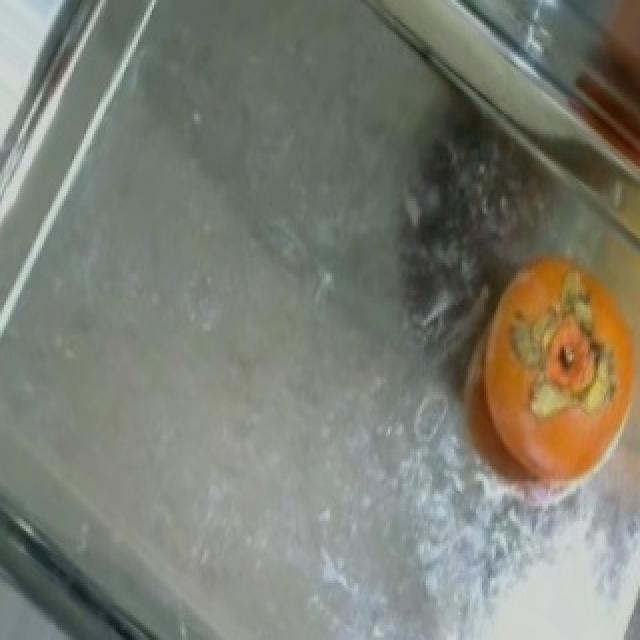Fruit: (438, 231, 628, 526)
